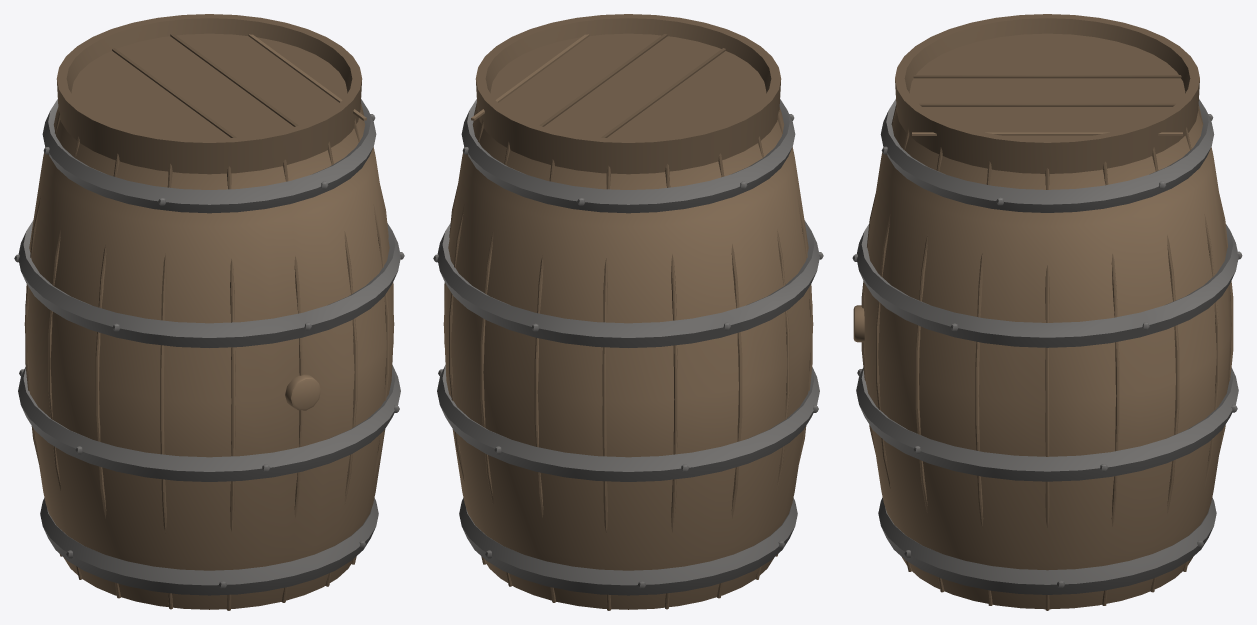
The model's file is obj_kit_barrel.glb.
3 views of the same model, side by side, from view 1: azimuth 30°, elevation 25°; view 2: azimuth 150°, elevation 25°; view 3: azimuth 270°, elevation 25° (orthographic).
Parts seen in each view (by area): view 1: body, Cylinder, chime, Torus.002, Torus.001, Torus, Torus.003, stave.011, stave.010, stave.009, Cylinder.001, stave.013 (+7 smaller); view 2: body, Cylinder, chime, Torus.002, Torus.001, Torus, Torus.003, stave.005, stave.006, stave.007, stave.004, stave.003 (+6 smaller); view 3: body, Cylinder, chime, Torus.002, Torus.001, Torus, Torus.003, stave, stave.001, stave.015, stave.002, stave.014 (+5 smaller).
Part boxes in pixels (left/top/right/bottom): body: left=24, top=107, right=394, bottom=609; Cylinder: left=71, top=33, right=347, bottom=138; chime: left=56, top=14, right=362, bottom=174; Torus.002: left=18, top=220, right=400, bottom=347; Torus.001: left=18, top=365, right=400, bottom=481; Torus: left=40, top=498, right=378, bottom=595; Torus.003: left=42, top=99, right=376, bottom=213; stave.011: left=226, top=166, right=235, bottom=610; stave.010: left=160, top=164, right=172, bottom=609; stave.009: left=95, top=153, right=120, bottom=598; Cylinder.001: left=285, top=374, right=320, bottom=410; stave.013: left=325, top=141, right=357, bottom=586; body: left=443, top=107, right=813, bottom=609; Cylinder: left=490, top=33, right=766, bottom=138; chime: left=475, top=14, right=781, bottom=174; Torus.002: left=437, top=220, right=819, bottom=347; Torus.001: left=437, top=365, right=819, bottom=481; Torus: left=459, top=498, right=797, bottom=595; Torus.003: left=461, top=99, right=795, bottom=213; stave.005: left=602, top=166, right=611, bottom=610; stave.006: left=665, top=164, right=677, bottom=609; stave.007: left=717, top=153, right=742, bottom=598; stave.004: left=534, top=159, right=556, bottom=602; stave.003: left=480, top=141, right=512, bottom=586; body: left=864, top=111, right=1231, bottom=609; Cylinder: left=909, top=33, right=1185, bottom=138; chime: left=895, top=14, right=1199, bottom=173; Torus.002: left=857, top=224, right=1238, bottom=347; Torus.001: left=856, top=368, right=1238, bottom=481; Torus: left=878, top=497, right=1216, bottom=594; Torus.003: left=880, top=99, right=1214, bottom=212; stave: left=1045, top=168, right=1049, bottom=610; stave.001: left=1102, top=161, right=1119, bottom=605; stave.015: left=975, top=161, right=992, bottom=605; stave.002: left=1150, top=147, right=1179, bottom=592; stave.014: left=915, top=147, right=944, bottom=592.
Size of the model in its own units: 0.622 by 0.841 by 0.6339.
